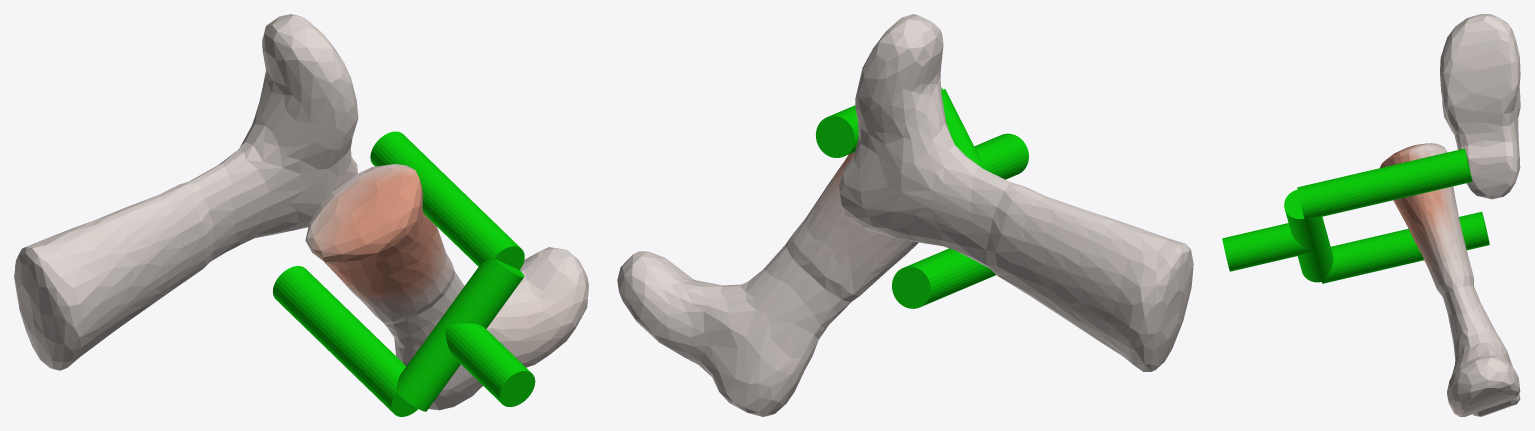
Rendered from round_000_trial_003.obj.
3 renders of one model, left to right at view 1: azimuth 30°, elevation 25°; view 2: azimuth 150°, elevation 25°; view 3: azimuth 270°, elevation 25°, orthographic. The views are drawn at different scales.
Visible parts, largest first — view 1: geometry_0, geometry_1; view 2: geometry_0, geometry_1; view 3: geometry_0, geometry_1.
Boxes of the visible parts, x1=… form: geometry_0: x1=14, y1=14, x2=588, y2=410; geometry_1: x1=273, y1=131, x2=535, y2=416; geometry_0: x1=617, y1=14, x2=1193, y2=416; geometry_1: x1=815, y1=87, x2=1028, y2=308; geometry_0: x1=1380, y1=14, x2=1520, y2=416; geometry_1: x1=1222, y1=148, x2=1489, y2=283.
Bounding box in the file's own units: 0.15 × 0.1095 × 0.0868.
